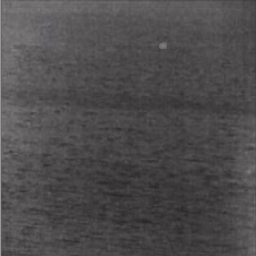Target: (157, 41, 168, 49)
